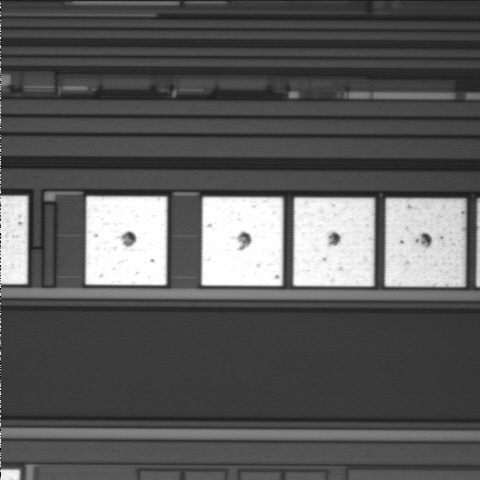pad: (85, 196, 167, 285), (202, 197, 283, 286), (385, 198, 466, 287), (293, 198, 374, 286)
